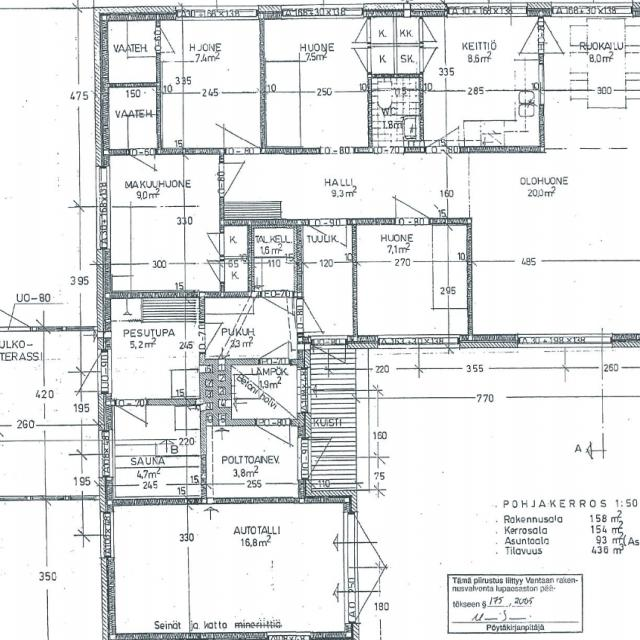door: (342, 512, 412, 568), (342, 568, 412, 624), (296, 438, 353, 480), (54, 351, 108, 392), (313, 333, 347, 382), (310, 217, 347, 262), (539, 19, 581, 54), (504, 19, 545, 54), (219, 162, 259, 197), (396, 183, 430, 224), (256, 419, 290, 459), (225, 116, 258, 155), (428, 117, 460, 155), (114, 399, 146, 437), (296, 301, 334, 332), (0, 292, 30, 330), (156, 23, 192, 53), (200, 322, 235, 352), (376, 148, 405, 184), (260, 330, 290, 364), (264, 292, 292, 328), (418, 18, 448, 42), (343, 48, 372, 72), (419, 48, 448, 72), (343, 19, 373, 42), (131, 149, 154, 178), (196, 232, 225, 255), (199, 262, 225, 282)
